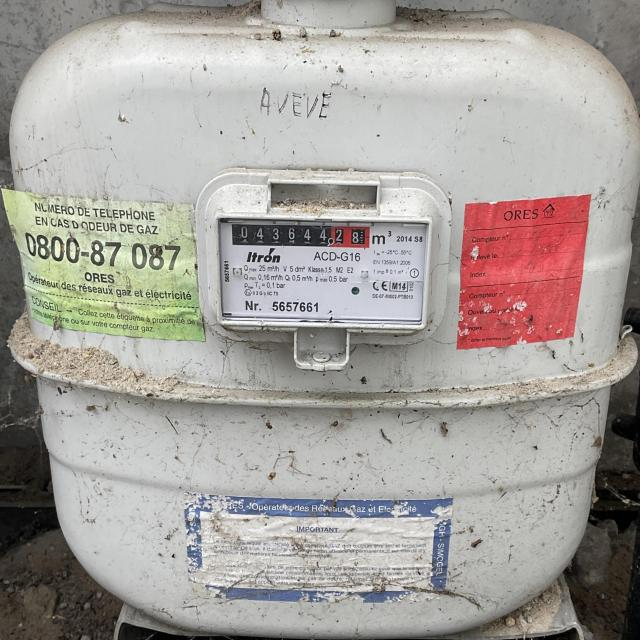gaz_meter: (220, 216, 428, 326)
indication: (232, 223, 369, 247)
